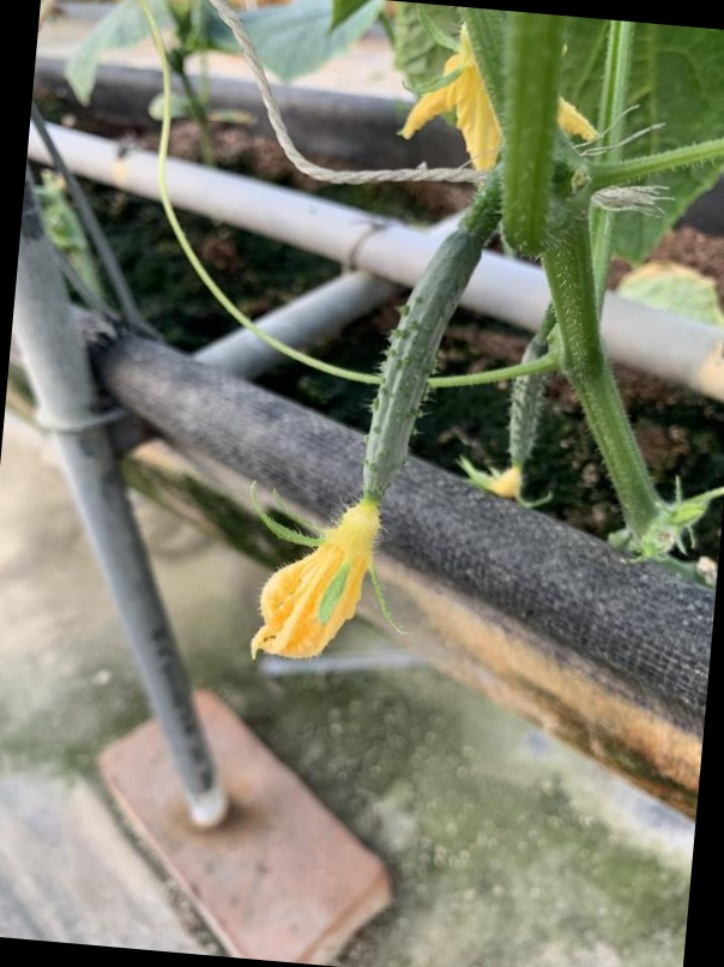bear: (270, 226, 489, 672)
